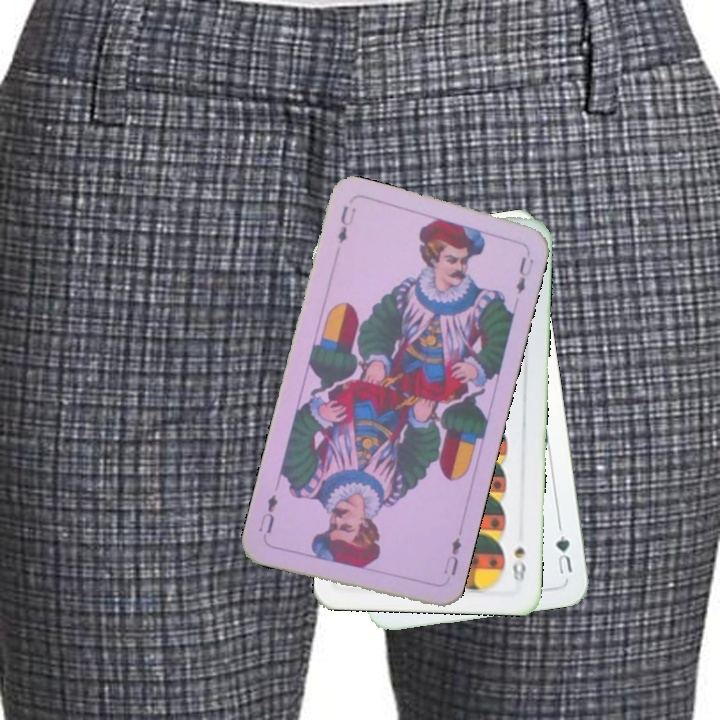EU: (333, 201, 359, 247), (440, 533, 464, 578)
GU: (551, 521, 575, 579)
S8: (508, 542, 528, 584)
